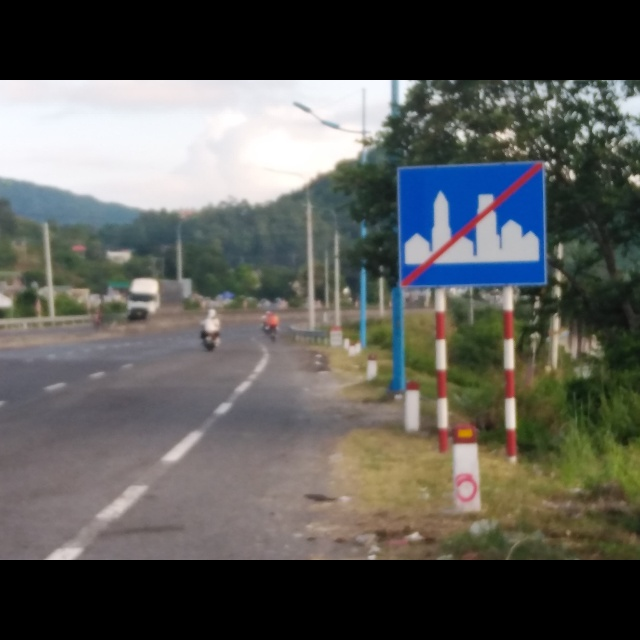Hết khu đông dân cư: (396, 160, 550, 291)
